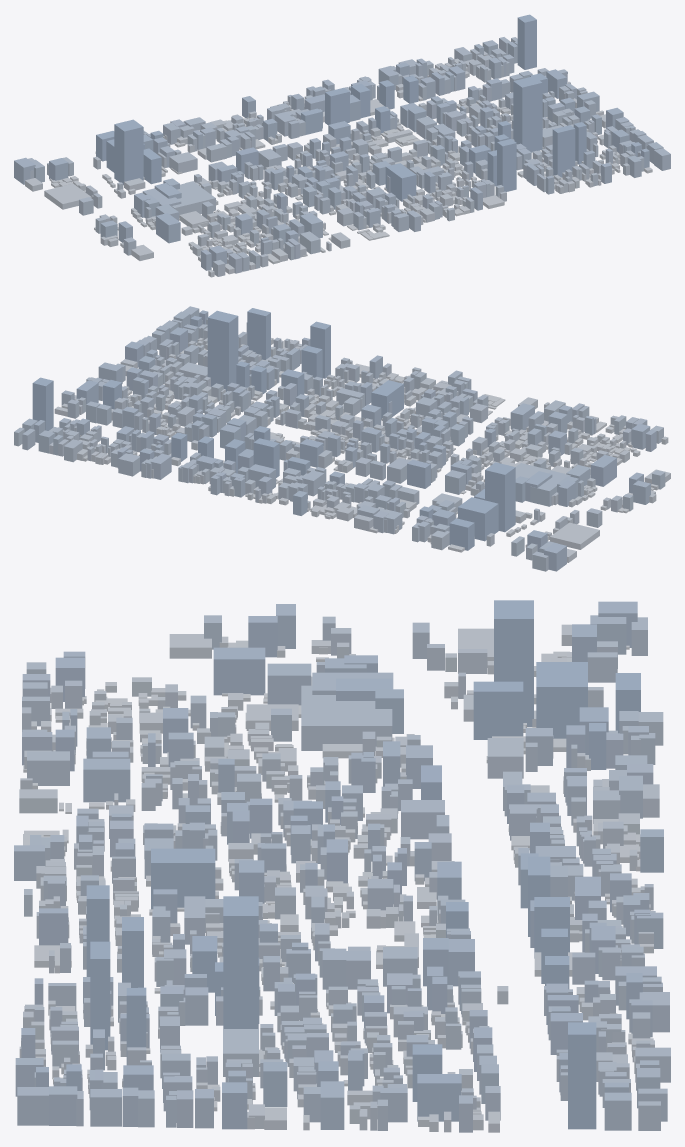
3 views of the same model, one above another, from view 1: azimuth 30°, elevation 25°; view 2: azimuth 150°, elevation 25°; view 3: azimuth 270°, elevation 25° (orthographic). The views are drawn at different scales.
Bounding box in the file's own units: 1515 × 190 × 843.
